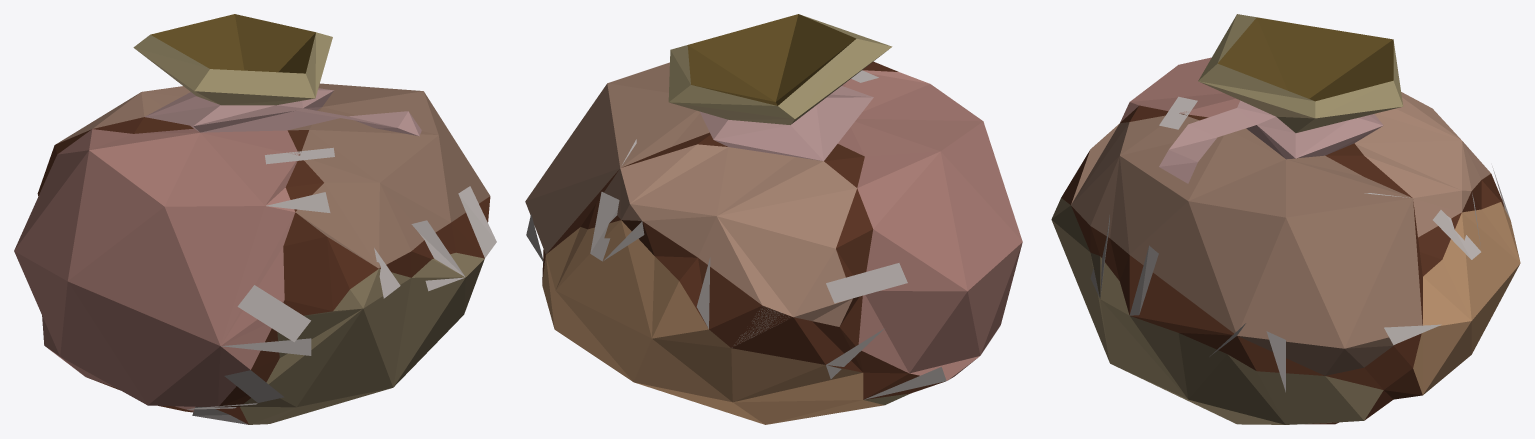
The model's file is colossal-pouch.gltf.
3 views of the same model, side by side, from view 1: azimuth 30°, elevation 25°; view 2: azimuth 150°, elevation 25°; view 3: azimuth 270°, elevation 25° (orthographic). The views are drawn at different scales.
Bounding box in the file's own units: 51 × 38 × 48.
1 material, 1 textured.
